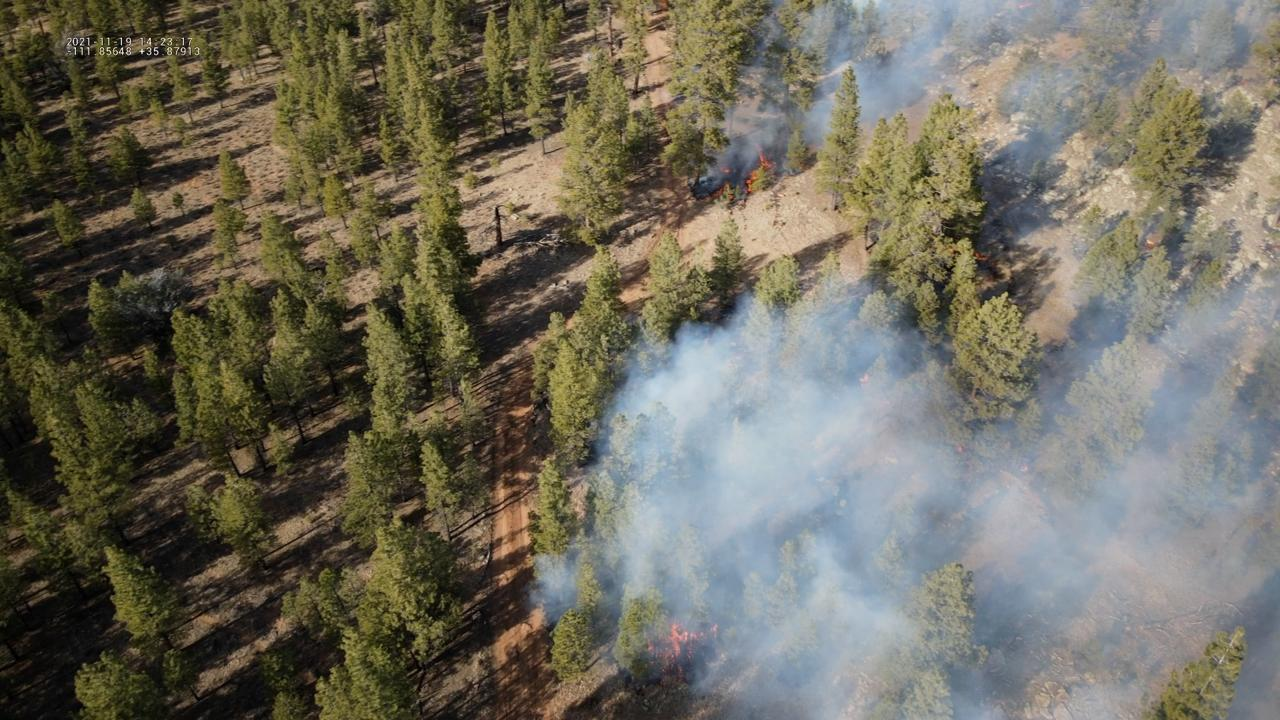fire: (640, 620, 720, 686), (744, 139, 772, 192), (704, 186, 723, 202), (973, 251, 988, 261), (717, 165, 731, 174), (862, 372, 870, 384), (1019, 463, 1029, 472), (1144, 239, 1155, 247), (956, 445, 964, 455), (728, 192, 734, 199)
smoke: (516, 0, 1280, 720)
